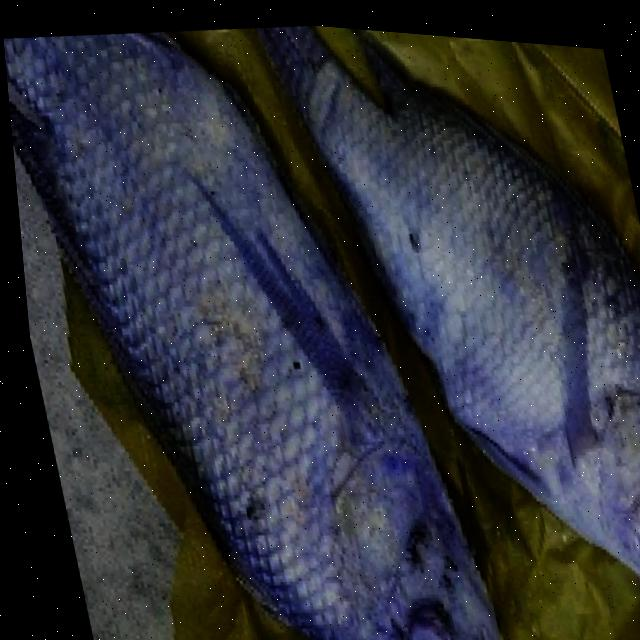Non-Fresh: (76, 148, 491, 640), (406, 86, 640, 640)
